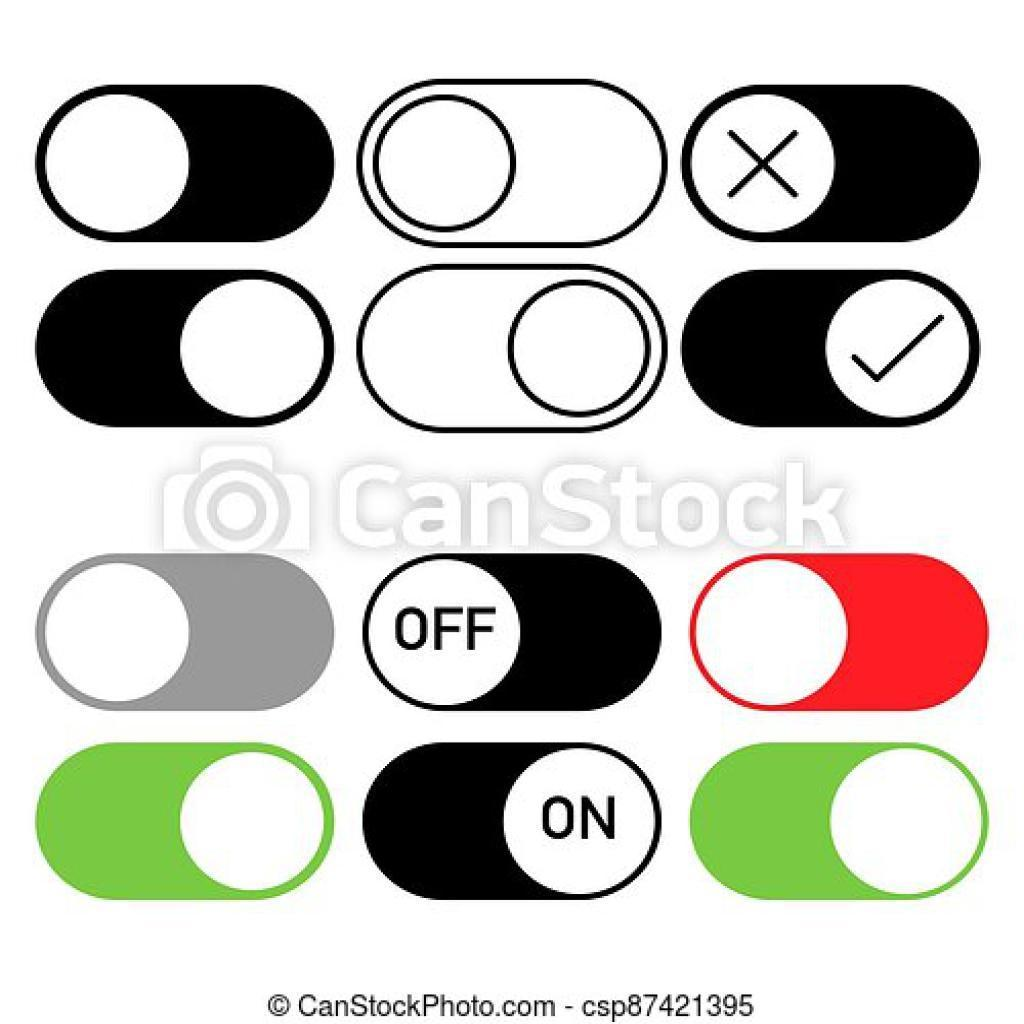switch: (356, 263, 671, 435), (357, 79, 670, 249), (681, 271, 983, 431), (36, 554, 338, 714), (363, 743, 664, 903), (689, 554, 991, 713), (690, 744, 992, 903), (363, 553, 663, 713), (36, 86, 337, 245), (36, 270, 337, 429), (37, 743, 336, 903), (681, 86, 981, 245)
